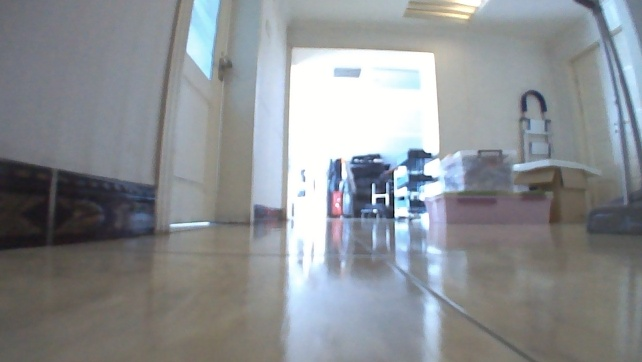door_anno: (155, 0, 256, 230)
